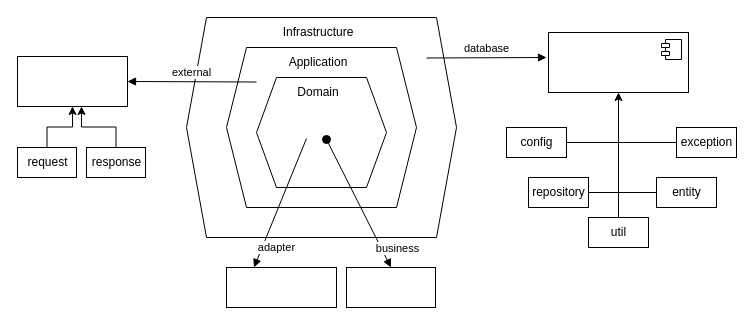
This 754x325 diagram has some shape labels left out. The centre of each missing label's shape, as x and y in pixels:
Controller: the point at 72,81
H2 DataBase: the point at 618,62
Interface repository: the point at 281,287
service: the point at 391,287
